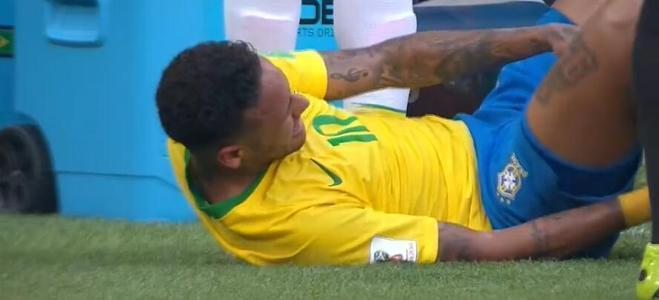Fall-Detected: (161, 2, 641, 271)
